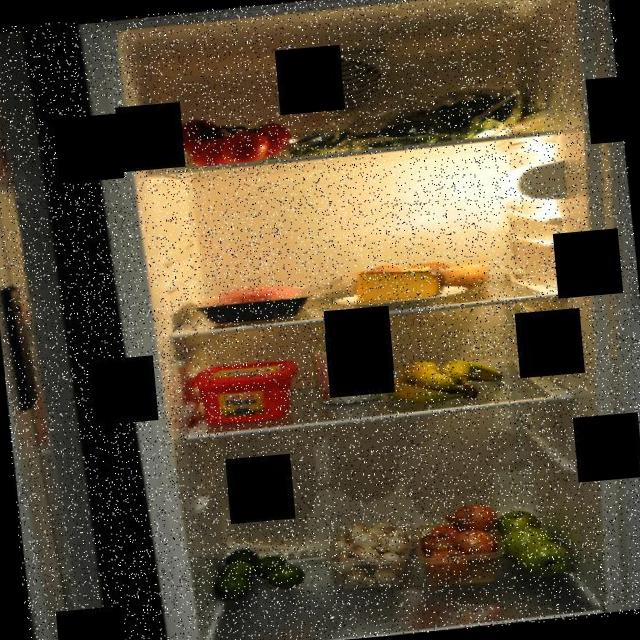Cebolla: (412, 498, 509, 589)
Champiñones: (322, 514, 420, 596)
Mantequilla: (188, 356, 304, 426)
Manzana: (490, 492, 580, 584)
Patata: (417, 251, 497, 295)
Plátano: (378, 351, 506, 408)
Queso: (351, 260, 446, 308)
Tomate: (167, 105, 296, 168)
